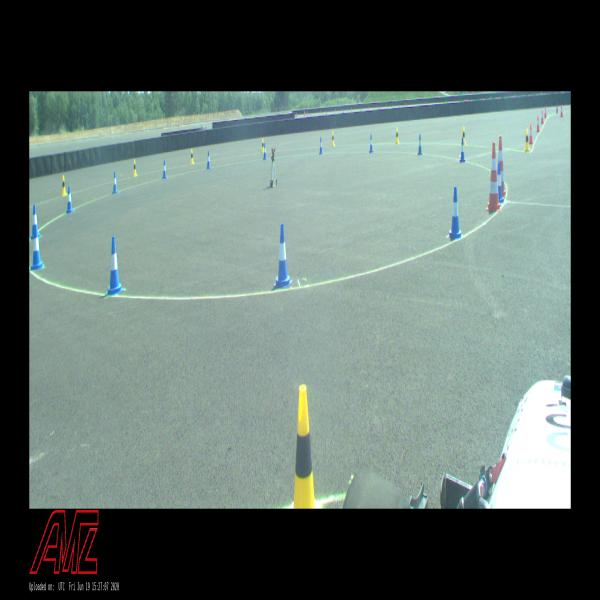blue_cone: (274, 223, 292, 287), (107, 236, 124, 294), (449, 186, 461, 238), (30, 225, 43, 269), (30, 205, 40, 237), (497, 162, 504, 203), (66, 186, 74, 212), (112, 172, 118, 193), (460, 138, 465, 162), (162, 160, 167, 178), (418, 134, 422, 154), (369, 134, 373, 152), (319, 137, 323, 154), (206, 151, 210, 168), (263, 143, 267, 159)
large_orange_cone: (486, 142, 502, 211), (497, 137, 506, 196)
orange_cone: (528, 124, 534, 143), (536, 116, 540, 132), (541, 110, 544, 123), (560, 105, 563, 117), (544, 107, 546, 117)
unknown_cone: (556, 105, 558, 113)
yellow_cone: (293, 385, 316, 507), (525, 129, 530, 151), (62, 175, 67, 195), (461, 126, 466, 145), (331, 131, 335, 146), (395, 128, 399, 143), (133, 160, 137, 175), (191, 148, 194, 164), (262, 138, 264, 153)
